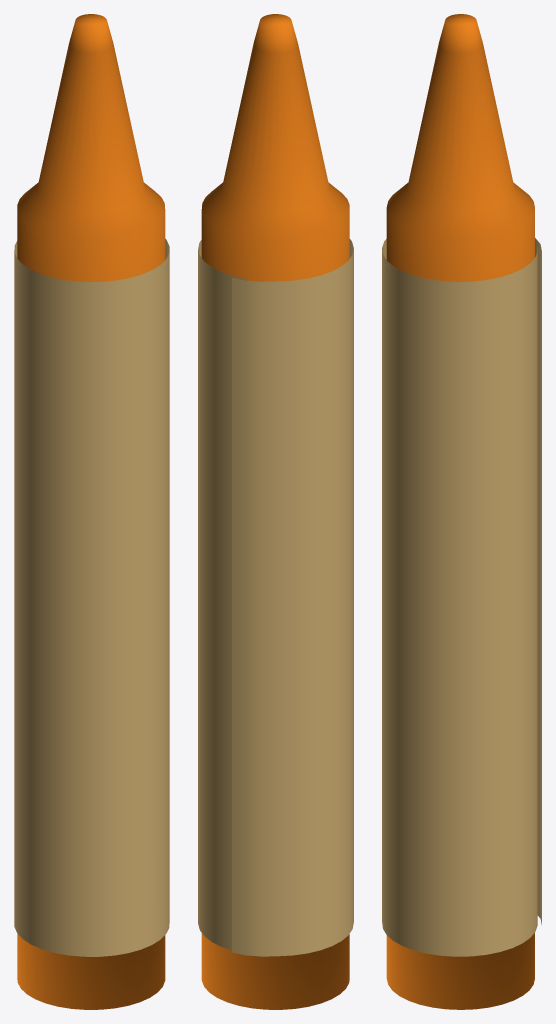
3 views of the same model, side by side, from view 1: azimuth 30°, elevation 25°; view 2: azimuth 150°, elevation 25°; view 3: azimuth 270°, elevation 25° (orthographic).
Parts seen in each view (by area): view 1: Orange_Crayon; view 2: Orange_Crayon; view 3: Orange_Crayon.
Part boxes in pixels (x1,y1,x2,y2): Orange_Crayon: (14,14,169,1009); Orange_Crayon: (198,14,353,1009); Orange_Crayon: (382,14,541,1009).
Size of the model in its own units: 0.0736 by 0.5 by 0.0755.
